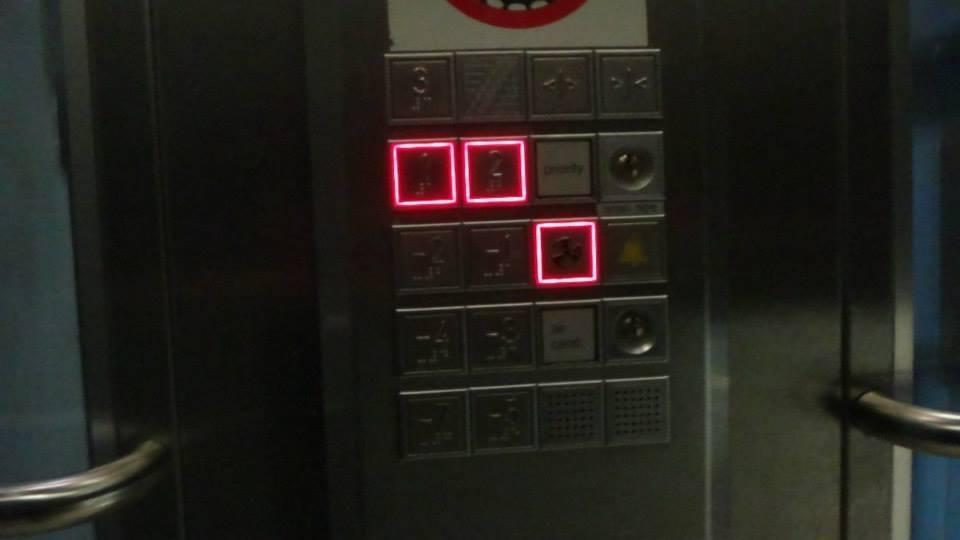-1: (459, 215, 534, 293)
-2: (389, 218, 461, 295)
1: (382, 133, 460, 208)
2: (459, 134, 527, 207)
3: (382, 45, 454, 122)
alarm: (595, 211, 668, 288)
blur: (525, 130, 597, 206), (453, 46, 525, 121), (531, 295, 602, 371)
close: (592, 44, 662, 121)
open: (522, 43, 596, 120)
unknown: (593, 129, 667, 205), (391, 303, 466, 376), (462, 299, 535, 373), (600, 292, 670, 367), (530, 213, 599, 289), (466, 383, 538, 454), (602, 375, 672, 448), (536, 379, 605, 453), (397, 386, 468, 456)
